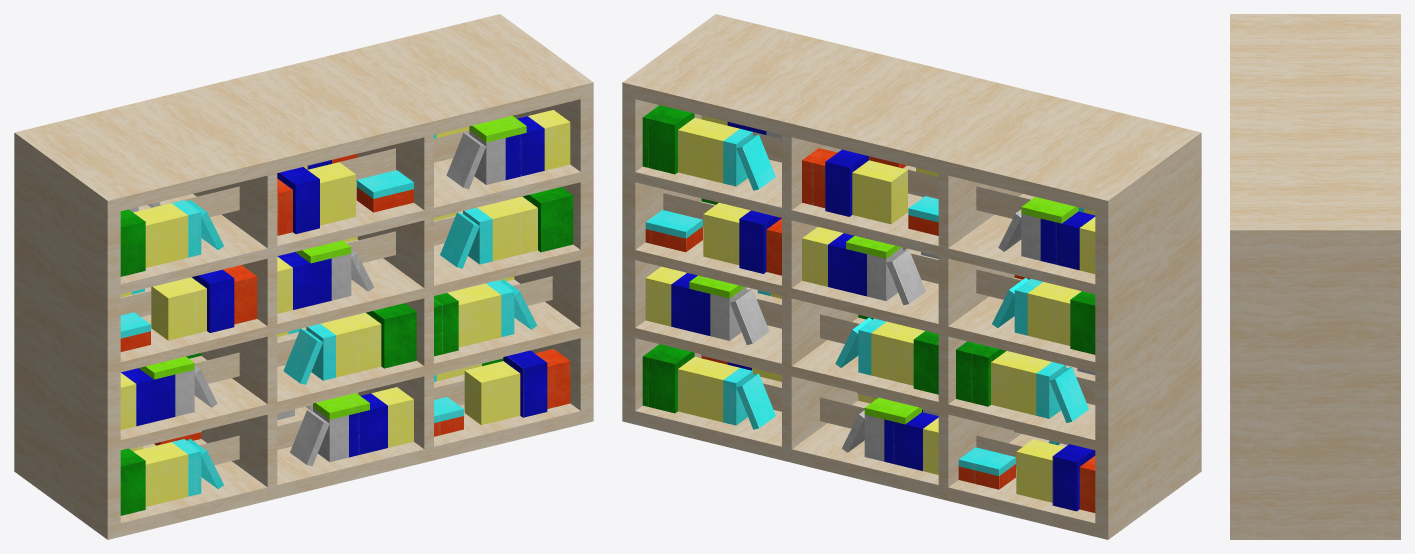
File: bookshelf.glb
The picture shows the model from 3 angles, left to right: view 1: azimuth 30°, elevation 25°; view 2: azimuth 150°, elevation 25°; view 3: azimuth 270°, elevation 25°; orthographic projection. The views are drawn at different scales.
Visible parts, largest first — view 1: Geom3D (×8); view 2: Geom3D (×8); view 3: Geom3D.
Part boxes in pixels (<box>): Geom3D (×8): <box>14,14,593,539</box>; Geom3D (×8): <box>622,14,1201,539</box>; Geom3D: <box>1230,14,1400,539</box>.
Bounding box in the file's own units: 3 × 2 × 1.
Materials: 8 (8 with a texture image).
